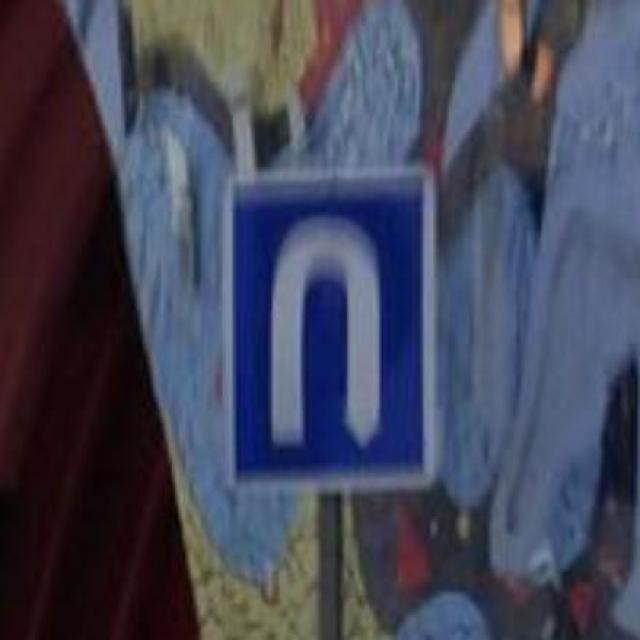traffic sign: (225, 170, 435, 491)
